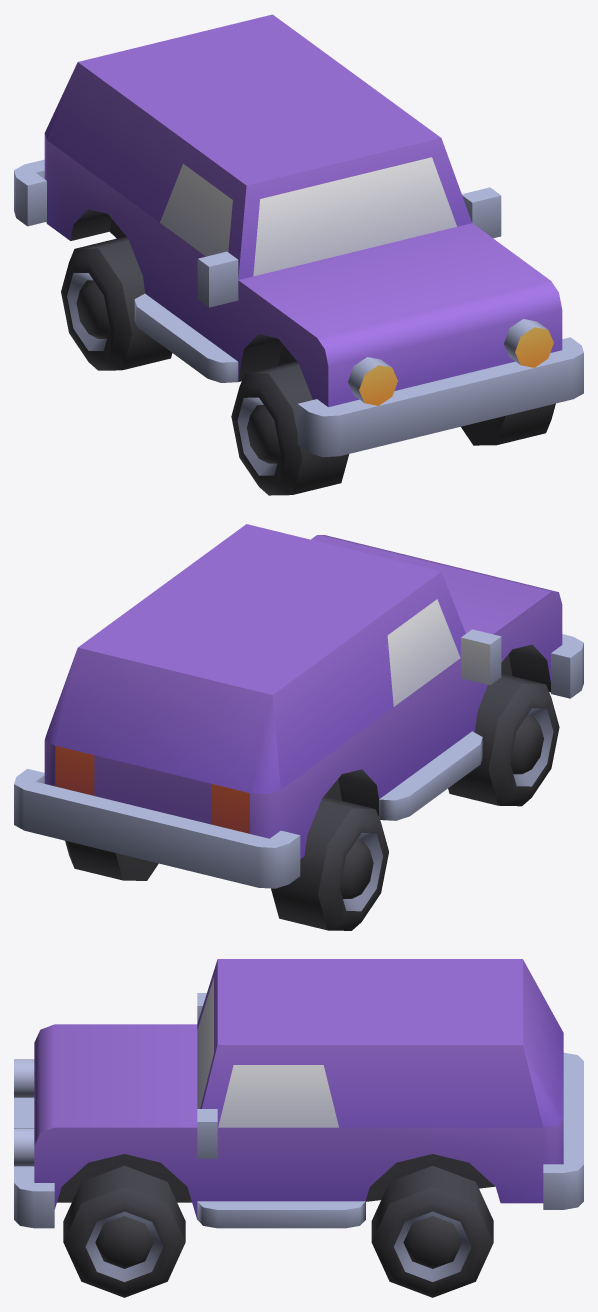
Rendered from vehicle-truck-purple.glb.
The picture shows the model from 3 angles, top to bottom: view 1: azimuth 30°, elevation 25°; view 2: azimuth 150°, elevation 25°; view 3: azimuth 270°, elevation 25°; orthographic projection. The views are drawn at different scales.
Parts seen in each view (by area): view 1: body, wheel-back-right, wheel-front-right, wheel-front-left; view 2: body, wheel-back-right, wheel-front-right, wheel-back-left; view 3: body, wheel-front-left, wheel-back-left.
Part boxes in pixels (left/top/right/bottom): body: left=14, top=14, right=583, bottom=457; wheel-back-right: left=61, top=237, right=172, bottom=370; wheel-front-right: left=231, top=361, right=349, bottom=495; wheel-front-left: left=461, top=403, right=555, bottom=445; body: left=14, top=524, right=583, bottom=888; wheel-back-right: left=271, top=797, right=388, bottom=930; wheel-front-right: left=448, top=673, right=559, bottom=806; wheel-back-left: left=65, top=840, right=158, bottom=880; body: left=14, top=959, right=583, bottom=1228; wheel-front-left: left=63, top=1165, right=185, bottom=1297; wheel-back-left: left=371, top=1165, right=493, bottom=1297.
Bounding box in the file's own units: 1.5 × 1.3 × 2.8.
Materials: 1 (1 with a texture image).
